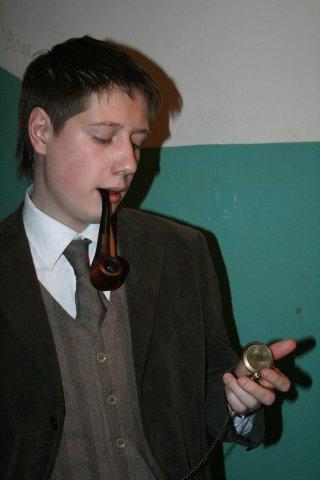trubka: (89, 189, 123, 291)
